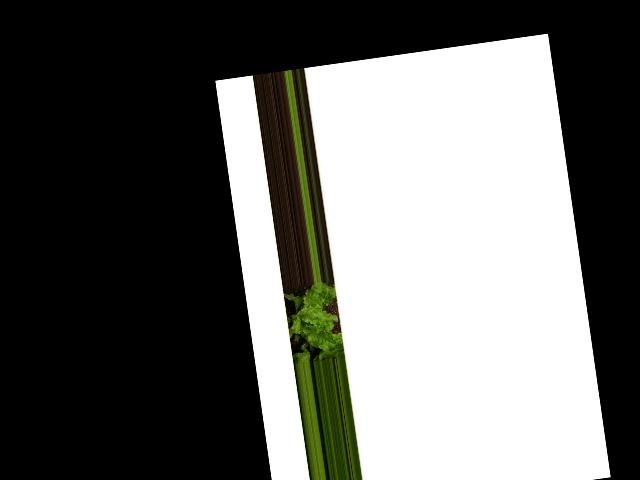lettuce: (279, 281, 342, 365)
